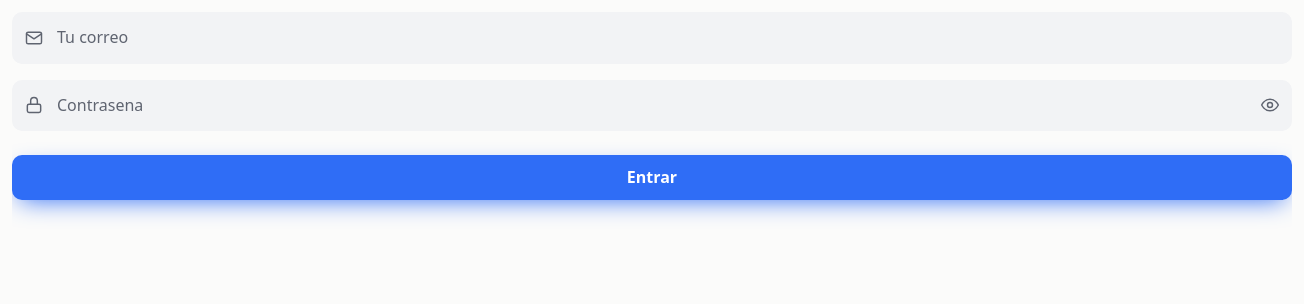
Test: LoginForm › un 401 se anuncia con el mensaje generico, borra la contrasena y conserva el correo
Step 1. Type "ana@casa.com" into the field with placeholder "Tu correo" → x=652, y=38, box [12, 12, 1292, 64]
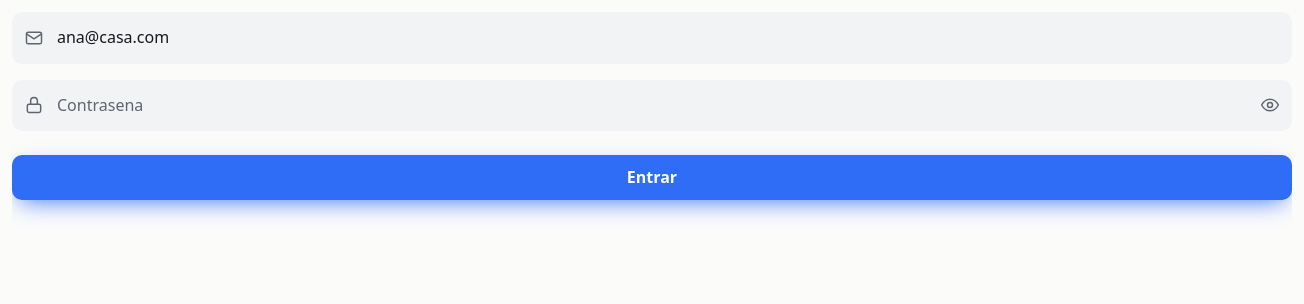
Step 2. Type "una-contrasena-larga" into the password field with placeholder "Contrasena" → x=652, y=105, box [12, 80, 1292, 131]
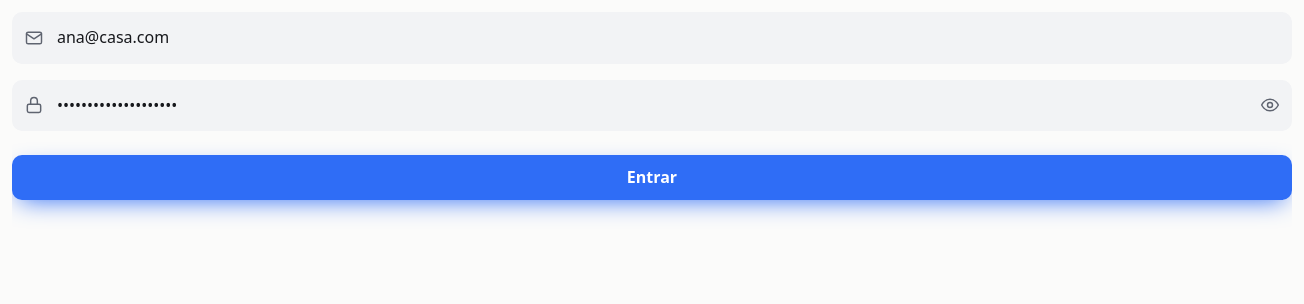
Step 3. Submit the form
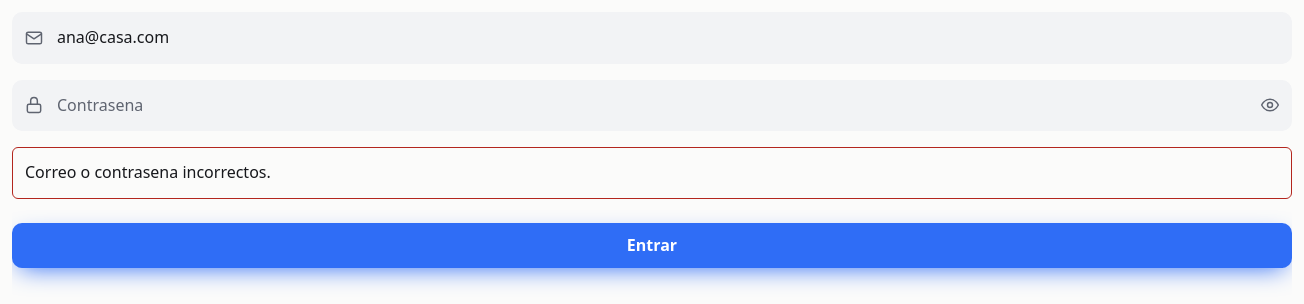
Expected: the message with class "fallo" reads "Correo o contrasena incorrectos.", [25, 161, 271, 183]
Expected: the password field with placeholder "Contrasena" is empty, [12, 80, 1292, 131]
